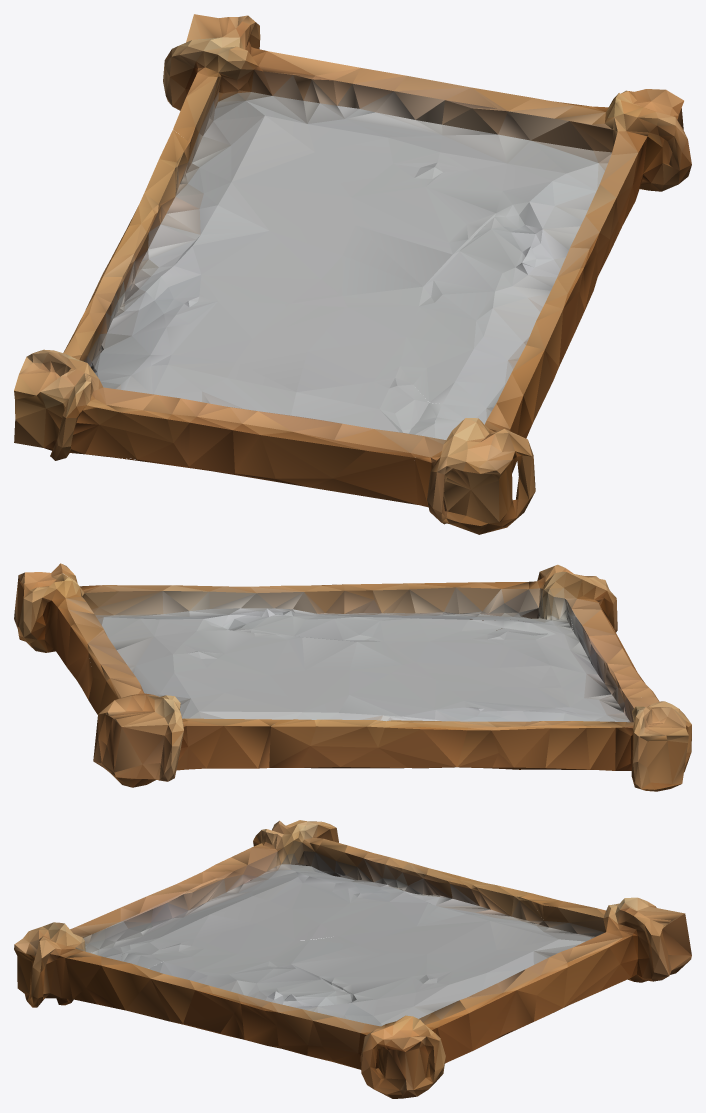
Rendered from building-solarStill-lid.glb.
3 views of the same model, one above another, from view 1: azimuth 30°, elevation 25°; view 2: azimuth 150°, elevation 25°; view 3: azimuth 270°, elevation 25° (orthographic). The views are drawn at different scales.
Parts seen in each view (by area): view 1: 0_solarStill-lid; view 2: 0_solarStill-lid; view 3: 0_solarStill-lid.
Boxes of the visible parts, x1,y1,x2,y2 form: 0_solarStill-lid: [14, 14, 691, 534]; 0_solarStill-lid: [14, 563, 691, 791]; 0_solarStill-lid: [14, 820, 691, 1098].
Bounding box in the file's own units: 0.9703 × 0.2347 × 1.
